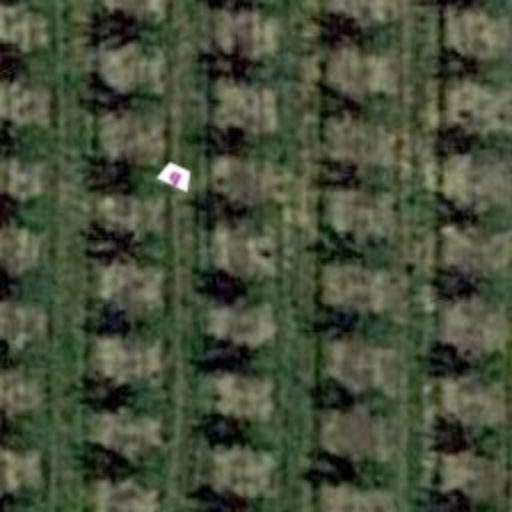trapezoid: (152, 152, 200, 200)
